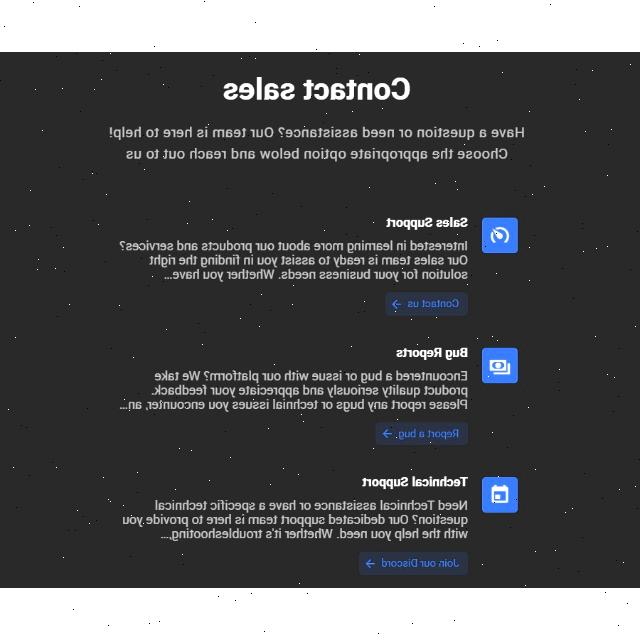QLabel: (118, 492, 470, 542), (119, 238, 472, 284), (114, 368, 472, 412), (108, 123, 526, 141), (125, 146, 507, 164), (222, 75, 412, 103), (360, 474, 470, 488), (386, 215, 468, 233), (395, 346, 471, 359), (398, 427, 458, 441), (381, 558, 459, 568), (407, 298, 459, 310)
VBtn: (358, 552, 469, 576), (374, 421, 468, 447), (384, 290, 470, 316)
VIcon: (382, 428, 392, 438), (366, 558, 374, 568), (392, 300, 402, 308)
VImg: (482, 216, 518, 254), (482, 346, 518, 384), (482, 476, 518, 512)
